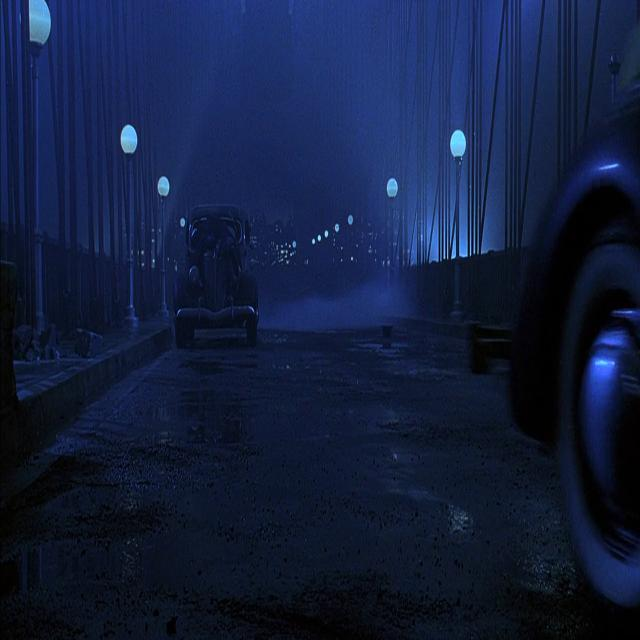Car: (521, 155, 640, 567), (168, 170, 276, 358)
